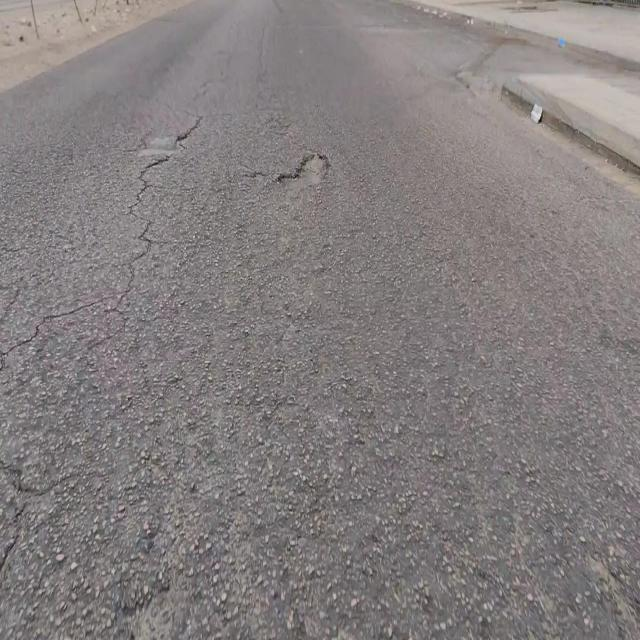Pothole: (279, 154, 330, 183)
